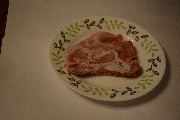beef: (66, 31, 142, 77)
